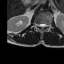CCS_normal: (41, 20, 43, 32)
LFS_normal: (46, 21, 48, 29)
LLS_normal: (43, 21, 46, 29)
RFS_normal: (36, 21, 39, 28)
RLS_normal: (39, 21, 41, 29)
